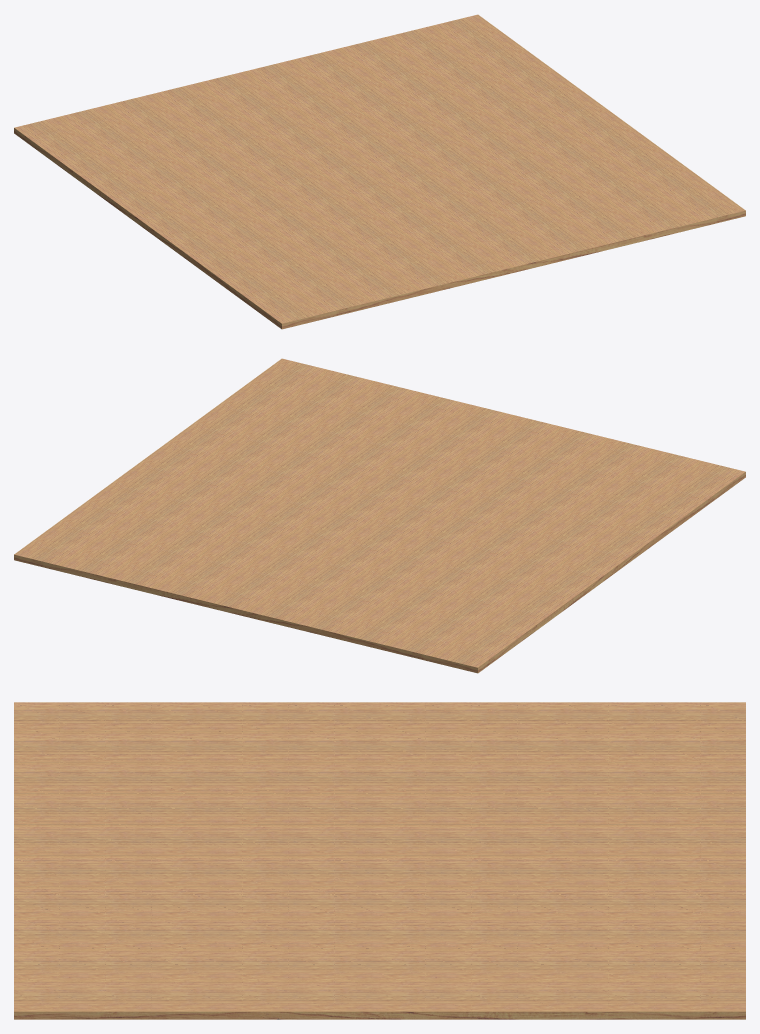
The model's file is floor.glb.
3 views of the same model, one above another, from view 1: azimuth 30°, elevation 25°; view 2: azimuth 150°, elevation 25°; view 3: azimuth 270°, elevation 25° (orthographic). The views are drawn at different scales.
Visible parts, largest first — view 1: Plane; view 2: Plane; view 3: Plane.
Boxes of the visible parts, x1,y1,x2,y2 form: Plane: [14, 14, 745, 329]; Plane: [14, 358, 745, 673]; Plane: [14, 702, 745, 1019].
Bounding box in the file's own units: 80.94 × 0.9425 × 80.94.
Materials: 1 (1 with a texture image).
